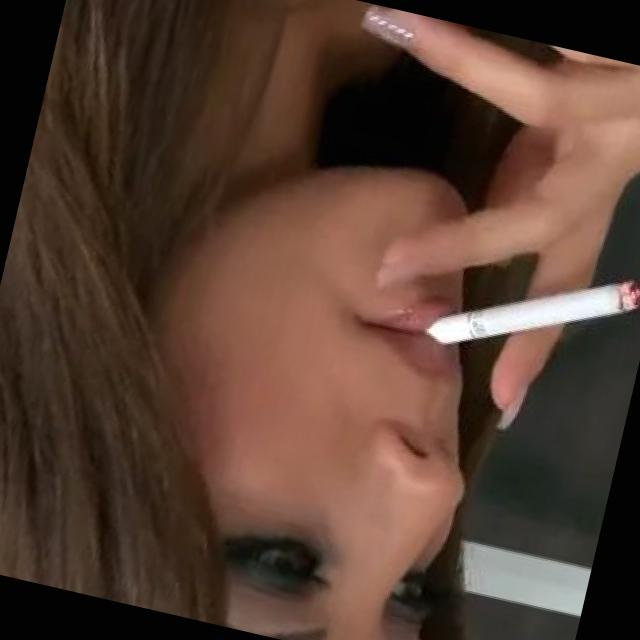smoke: (425, 237, 640, 392)
